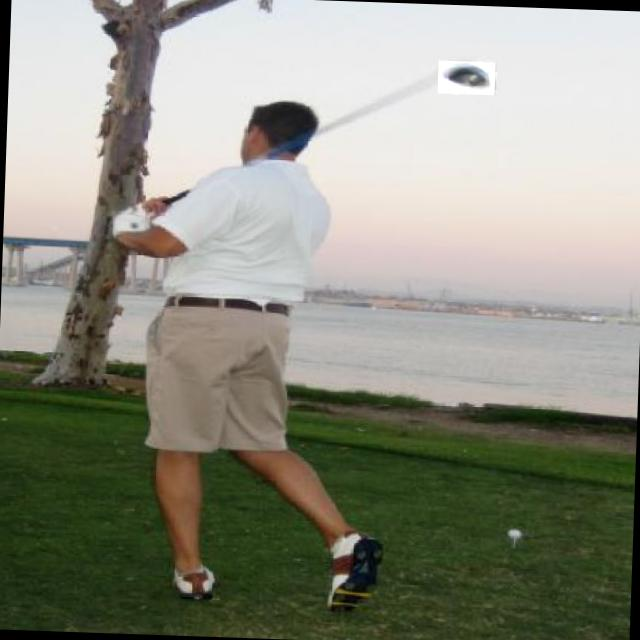club head: (438, 60, 497, 95)
